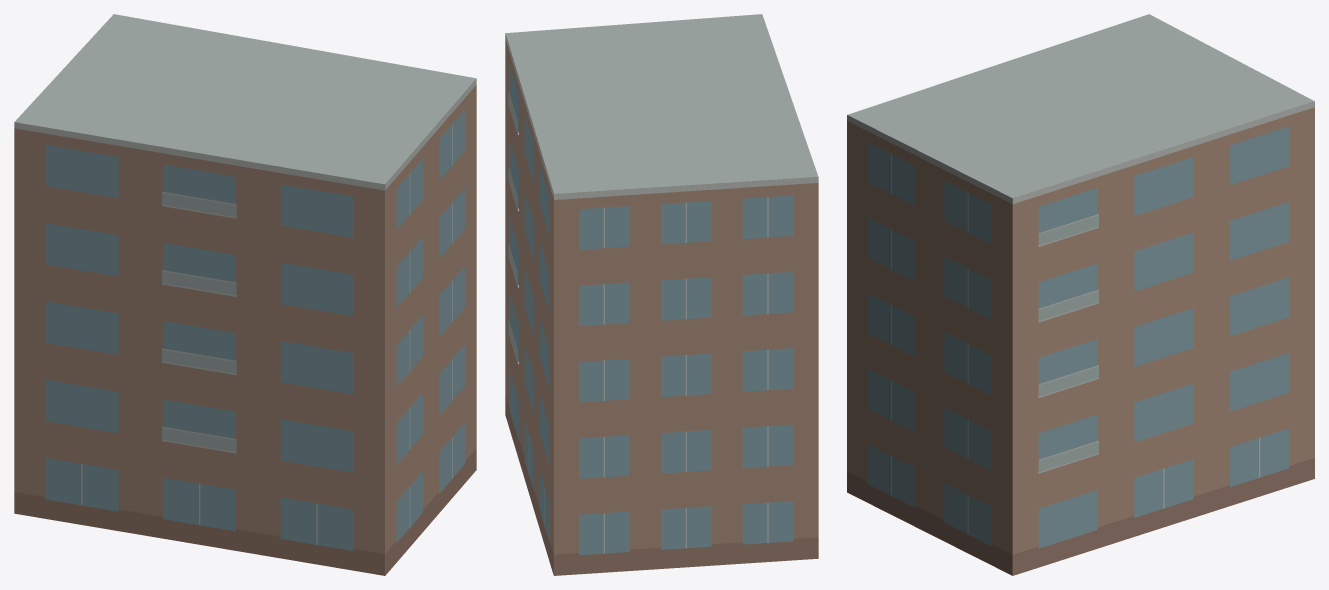
Rendered from survey-upis-32843183.glb.
3 renders of one model, left to right at view 1: azimuth 30°, elevation 25°; view 2: azimuth 150°, elevation 25°; view 3: azimuth 270°, elevation 25°, orthographic. The views are drawn at different scales.
Parts seen in each view (by area): view 1: survey-upis-32843183.tmp; view 2: survey-upis-32843183.tmp; view 3: survey-upis-32843183.tmp.
Part boxes in pixels (x1,y1,x2,y2): survey-upis-32843183.tmp: (14,14,476,575); survey-upis-32843183.tmp: (505,14,818,575); survey-upis-32843183.tmp: (847,14,1314,575).
Bounding box in the file's own units: 16.13 × 15.4 × 17.3.
